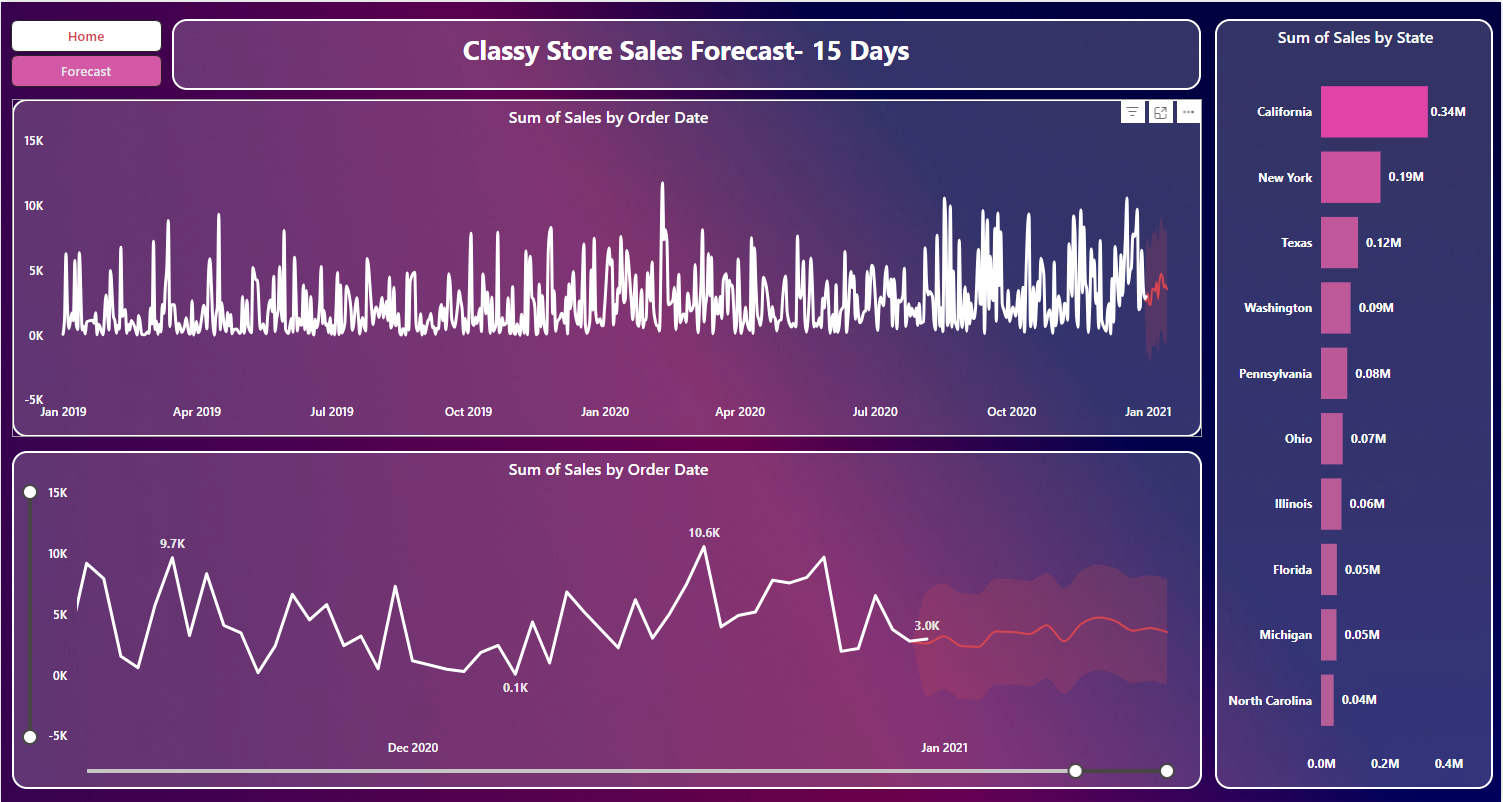

What the dashboard file says about the page in this screenshot:
{"tool":"powerbi","page":{"name":"Forecast","canvas":[1500,800],"ordinal":1},"visuals":[{"type":"textbox","box":[170.6,16.5,1029.6,71.3],"z":0},{"type":"barChart","fields":{"Category":["ClassyStore DataSet.State"],"Y":["Sum(ClassyStore DataSet.Sales)"]},"box":[1214.2,16.5,277.6,770.1],"z":1000},{"type":"lineChart","fields":{"Y":["Sum(ClassyStore DataSet.Sales)"],"Category":["ClassyStore DataSet.Order Date"]},"box":[10.6,448.8,1190,337.8],"z":2000},{"type":"lineChart","fields":{"Y":["Sum(ClassyStore DataSet.Sales)"],"Category":["ClassyStore DataSet.Order Date"]},"box":[10.6,96.9,1190,337.8],"z":3000},{"type":"pageNavigator","box":[10.3,17.6,150.9,32],"z":4000},{"type":"pageNavigator","box":[10.3,52.7,150.9,32],"z":5000}]}

Visuals, with their boxes in screenshot pixels (x1, y1, x2, y2), scaled from the page's 1500x800 canvas onto the 1503x802 screenshot:
textbox: 171:17:1203:88
barChart - ClassyStore DataSet.State x Sum(ClassyStore DataSet.Sales): 1217:17:1495:789
lineChart - Sum(ClassyStore DataSet.Sales) x ClassyStore DataSet.Order Date: 11:450:1203:789
lineChart - Sum(ClassyStore DataSet.Sales) x ClassyStore DataSet.Order Date: 11:97:1203:436
pageNavigator: 10:18:162:50
pageNavigator: 10:53:162:85
